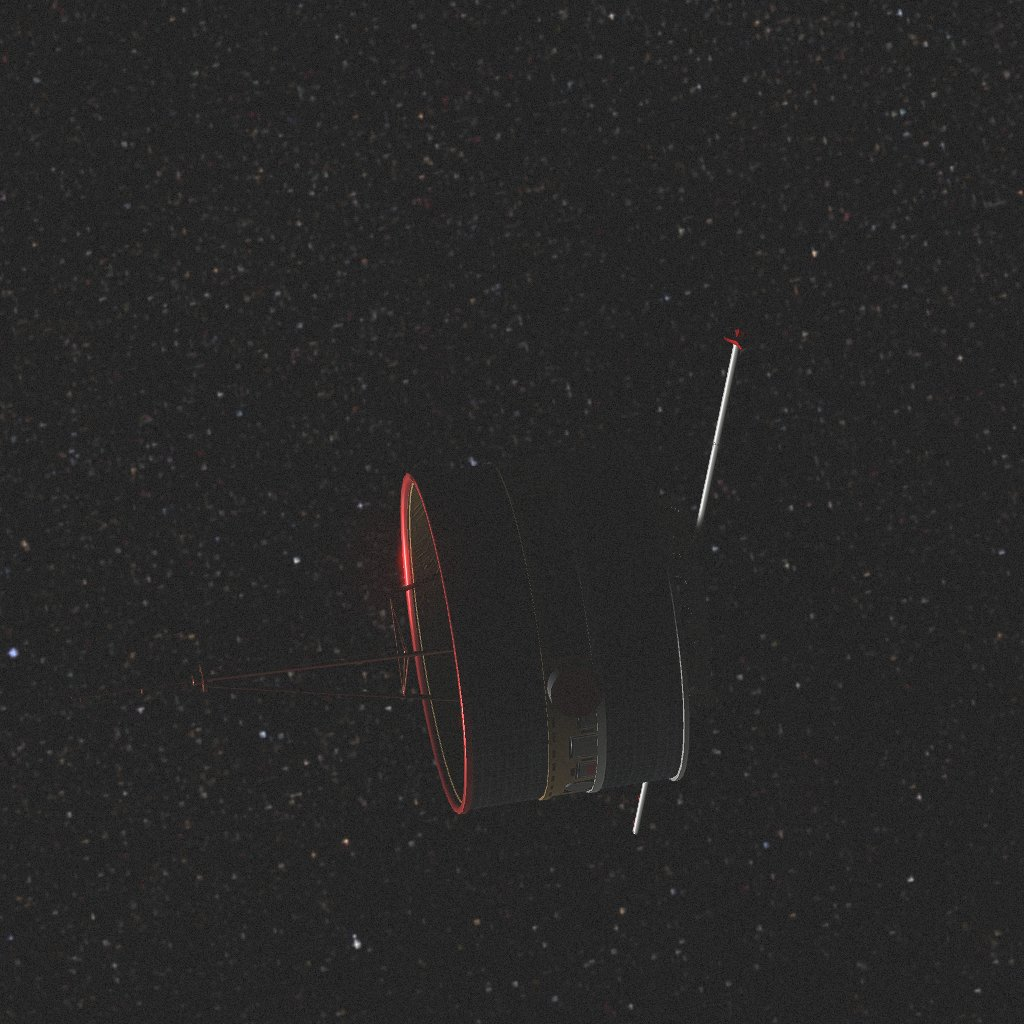double_star: (71, 321, 754, 834)
